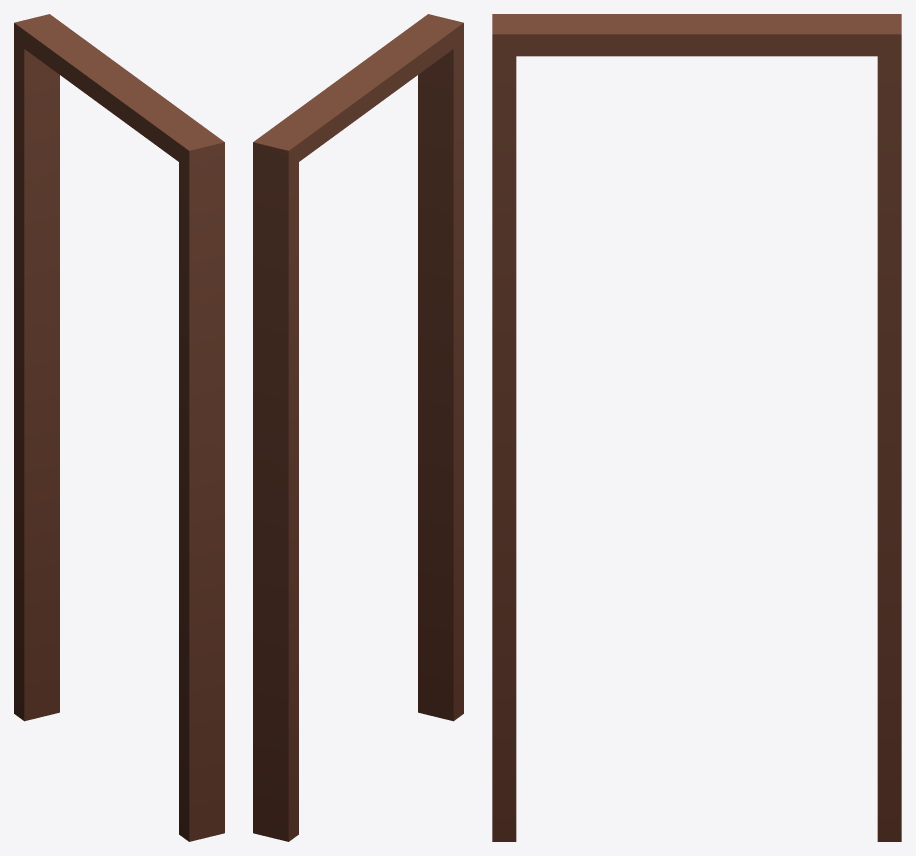
Rendered from SchoolPack2023DoorFrame1.fbx.
3 renders of one model, left to right at view 1: azimuth 30°, elevation 25°; view 2: azimuth 150°, elevation 25°; view 3: azimuth 270°, elevation 25°, orthographic. The views are drawn at different scales.
Visible parts, largest first — view 1: Cube.028; view 2: Cube.028; view 3: Cube.028.
Boxes of the visible parts, box(x1,y1,x2,y2) form: Cube.028: box(14, 14, 224, 841); Cube.028: box(253, 14, 463, 841); Cube.028: box(492, 14, 901, 841).
Bounding box in the file's own units: 20 × 370 × 170.
